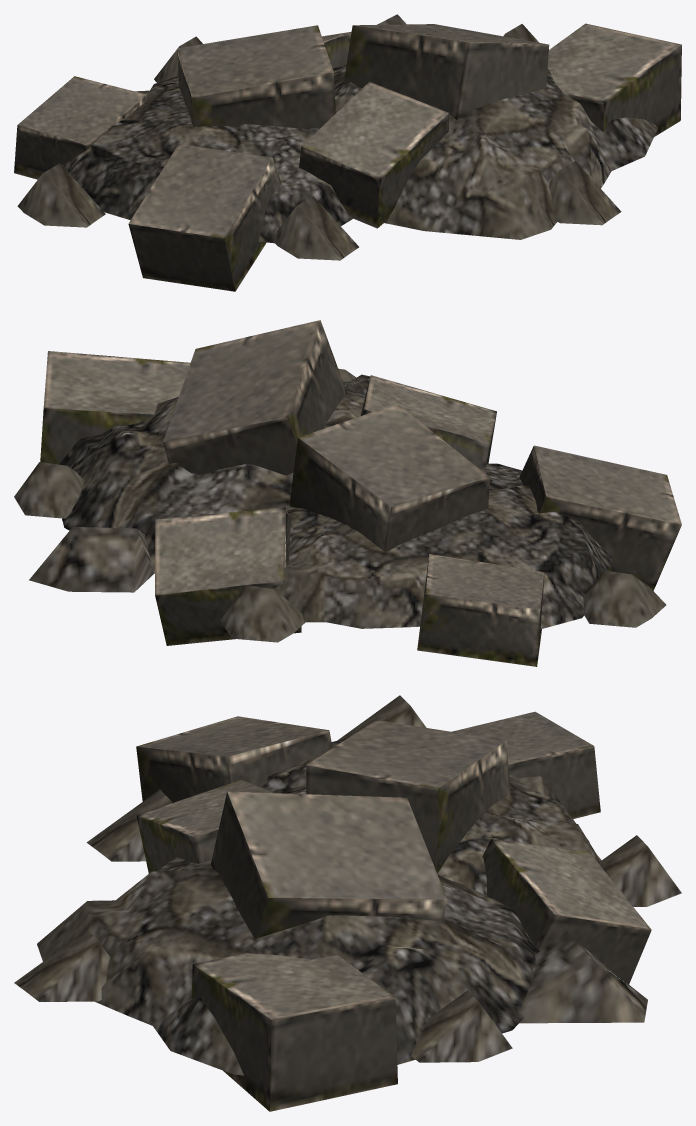
File: SM_Plains_Floors_Rubble.FBX
3 renders of one model, top to bottom at view 1: azimuth 30°, elevation 25°; view 2: azimuth 150°, elevation 25°; view 3: azimuth 270°, elevation 25°, orthographic. The views are drawn at different scales.
Parts seen in each view (by area): view 1: SM_Plains_Floors_Rubble; view 2: SM_Plains_Floors_Rubble; view 3: SM_Plains_Floors_Rubble.
Part boxes in pixels (<box>): SM_Plains_Floors_Rubble: <box>14,14,681,291</box>; SM_Plains_Floors_Rubble: <box>14,320,681,666</box>; SM_Plains_Floors_Rubble: <box>14,695,681,1111</box>.
Size of the model in its own units: 133 by 37.02 by 103.
